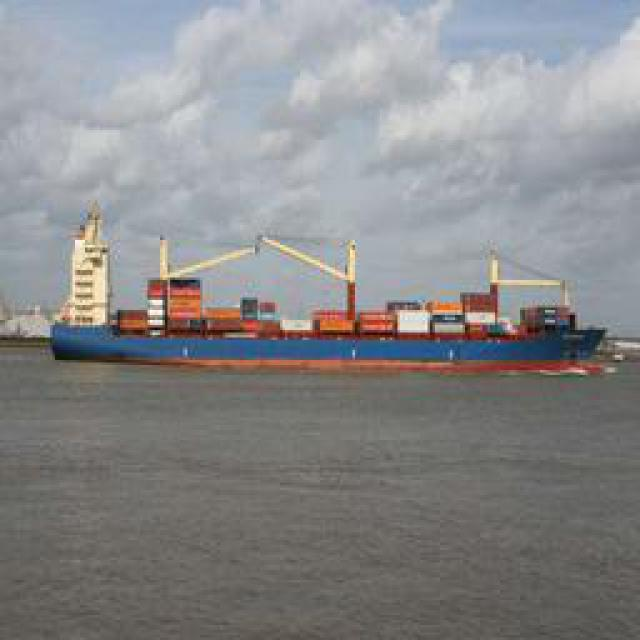Ship: (54, 221, 609, 379)
